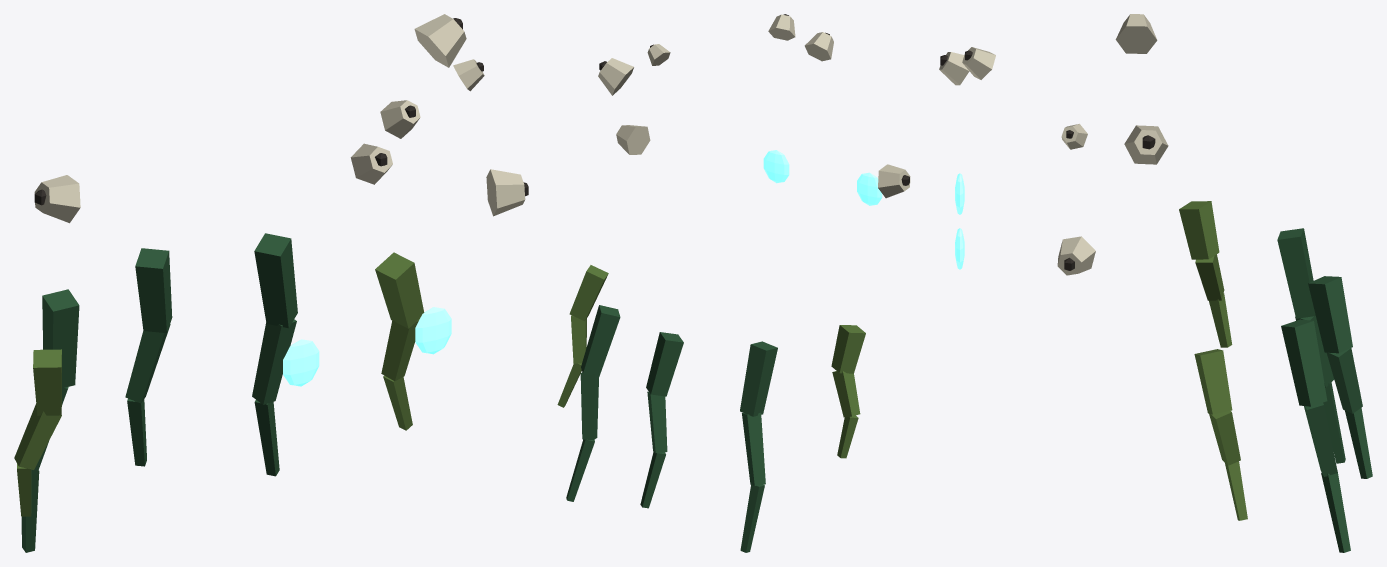
File: tidesworn_helm.glb
3 renders of one model, left to right at view 1: azimuth 30°, elevation 25°; view 2: azimuth 150°, elevation 25°; view 3: azimuth 270°, elevation 25°, orthographic. The views are drawn at different scales.
Parts seen in each view (by area): view 1: tidesworn_helm; view 2: tidesworn_helm; view 3: tidesworn_helm.
Boxes of the visible parts, x1,y1,x2,y2 form: tidesworn_helm: (14, 14, 528, 552); tidesworn_helm: (557, 14, 910, 552); tidesworn_helm: (939, 14, 1372, 552).
Bounding box in the file's own units: 1.3 × 1.56 × 1.27.
